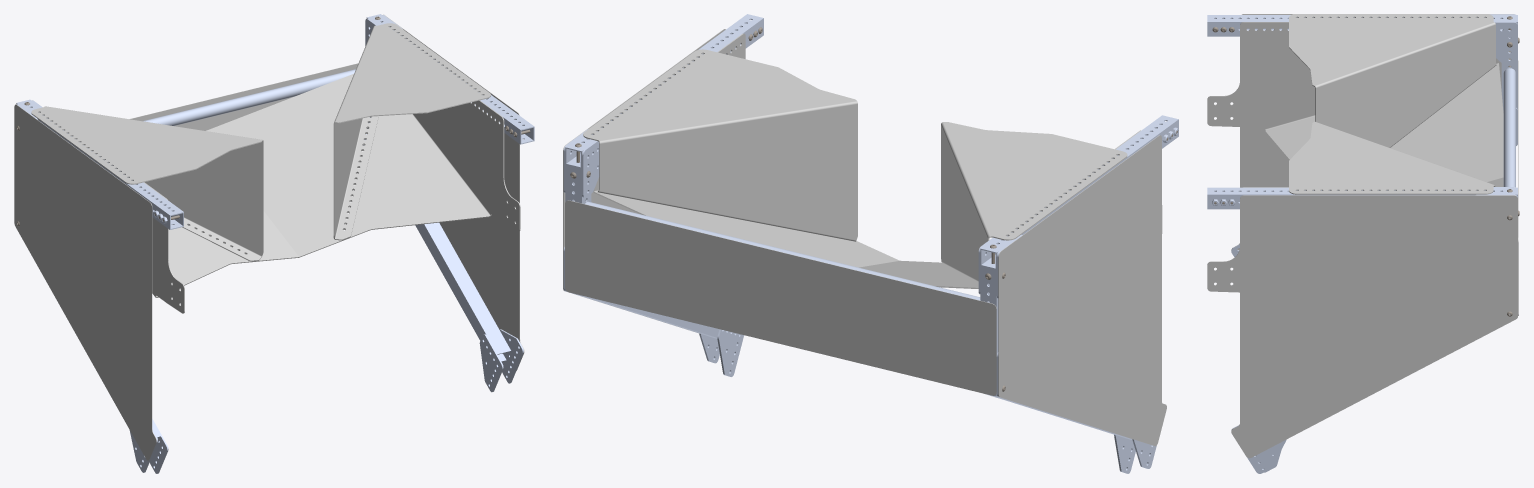
3 renders of one model, left to right at view 1: azimuth 30°, elevation 25°; view 2: azimuth 150°, elevation 25°; view 3: azimuth 270°, elevation 25°, orthographic. The views are drawn at different scales.
Visible parts, largest first — view 1: WCP-CC2025-04-009 (×2), WCP-CC2025-04-001, MirrorWCP-CC2025-04-005, WCP-CC2025-04-005, WCP-CC2025-04-006, WCP-CC2025-04-002 (×2), WCP-CC2025-04-003, WCP-CC2025-04-010, WCP-1061 Rev1, WCP-1070 Rev1; view 2: WCP-CC2025-04-010, WCP-CC2025-04-009 (×2), WCP-CC2025-04-005, MirrorWCP-CC2025-04-005, WCP-CC2025-04-001, WCP-CC2025-04-002 (×2), WCP-1061 Rev1 (×2), WCP-CC2025-04-003, WCP-CC2025-04-004 (×2), WCP-CC2025-04-006; view 3: WCP-CC2025-04-009 (×2), MirrorWCP-CC2025-04-005, WCP-CC2025-04-001, WCP-CC2025-04-005, WCP-CC2025-04-002 (×2), WCP-CC2025-04-003, WCP-1061 Rev1, WCP-1070 Rev1.
Part boxes in pixels (x1,y1,x2,y2): WCP-CC2025-04-009 (×2): [14, 14, 524, 460]; WCP-CC2025-04-001: [144, 74, 520, 313]; MirrorWCP-CC2025-04-005: [31, 106, 263, 261]; WCP-CC2025-04-005: [333, 23, 490, 240]; WCP-CC2025-04-006: [415, 222, 510, 361]; WCP-CC2025-04-002 (×2): [16, 14, 534, 229]; WCP-CC2025-04-003: [143, 69, 355, 125]; WCP-CC2025-04-010: [129, 63, 358, 130]; WCP-1061 Rev1: [479, 334, 503, 392]; WCP-1070 Rev1: [499, 329, 523, 383]; WCP-CC2025-04-010: [565, 200, 996, 395]; WCP-CC2025-04-009 (×2): [563, 29, 1166, 446]; WCP-CC2025-04-005: [583, 49, 857, 241]; MirrorWCP-CC2025-04-005: [941, 122, 1127, 281]; WCP-CC2025-04-001: [593, 33, 1162, 288]; WCP-CC2025-04-002 (×2): [565, 14, 1178, 269]; WCP-1061 Rev1 (×2): [582, 141, 743, 376]; WCP-CC2025-04-003: [585, 201, 980, 300]; WCP-CC2025-04-004 (×2): [565, 164, 998, 396]; WCP-CC2025-04-006: [567, 291, 719, 338]; WCP-CC2025-04-009 (×2): [1231, 14, 1517, 458]; MirrorWCP-CC2025-04-005: [1289, 14, 1496, 147]; WCP-CC2025-04-001: [1207, 22, 1503, 292]; WCP-CC2025-04-005: [1289, 121, 1495, 194]; WCP-CC2025-04-002 (×2): [1207, 15, 1517, 209]; WCP-CC2025-04-003: [1503, 68, 1515, 187]; WCP-1061 Rev1: [1494, 22, 1517, 63]; WCP-1070 Rev1: [1231, 425, 1286, 473].
Size of the model in its own units: 0.6705 by 0.4911 by 0.4852.
